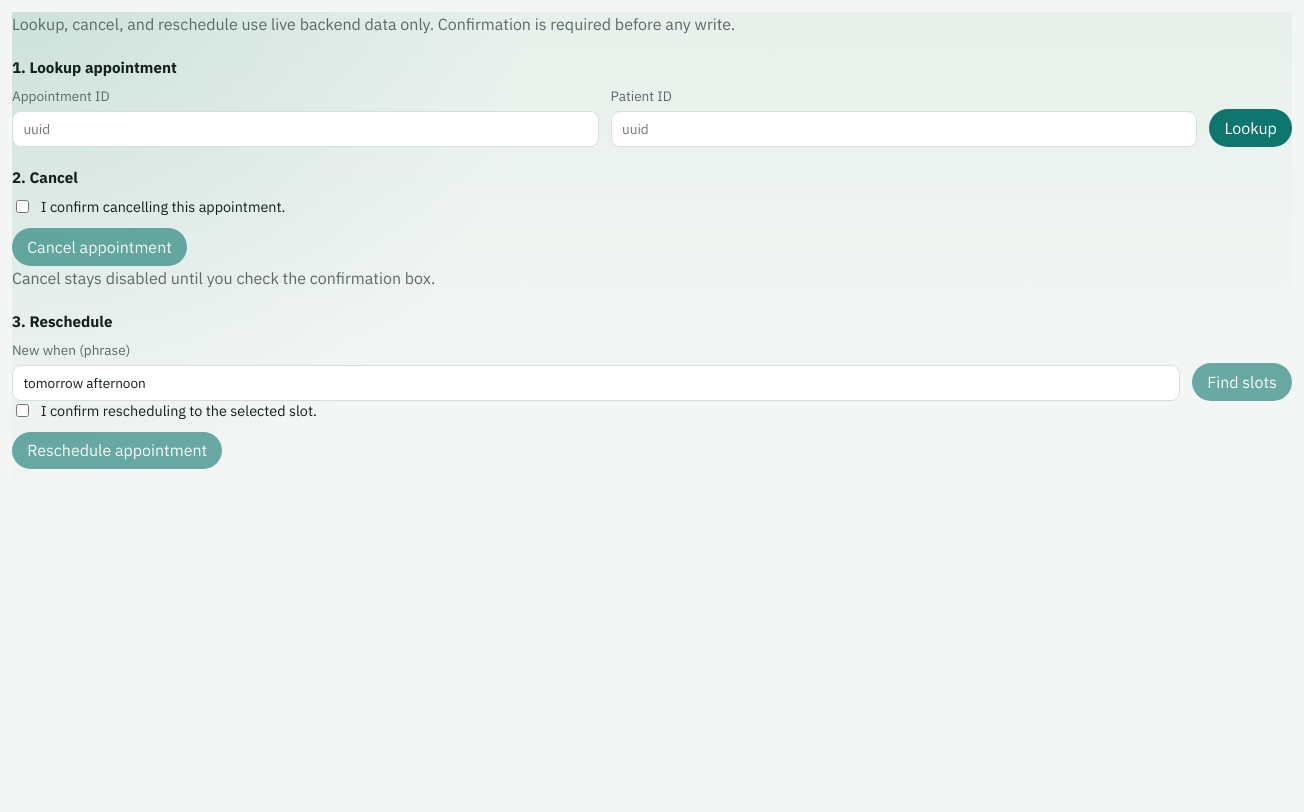
it: AppointmentManagePanel (KAN-110) › TC-002 cancel without confirm does not mutate
In the field with test id "manage-appointment-id": {"x": 305, "y": 129} [12,111,599,147], type "appt-1"
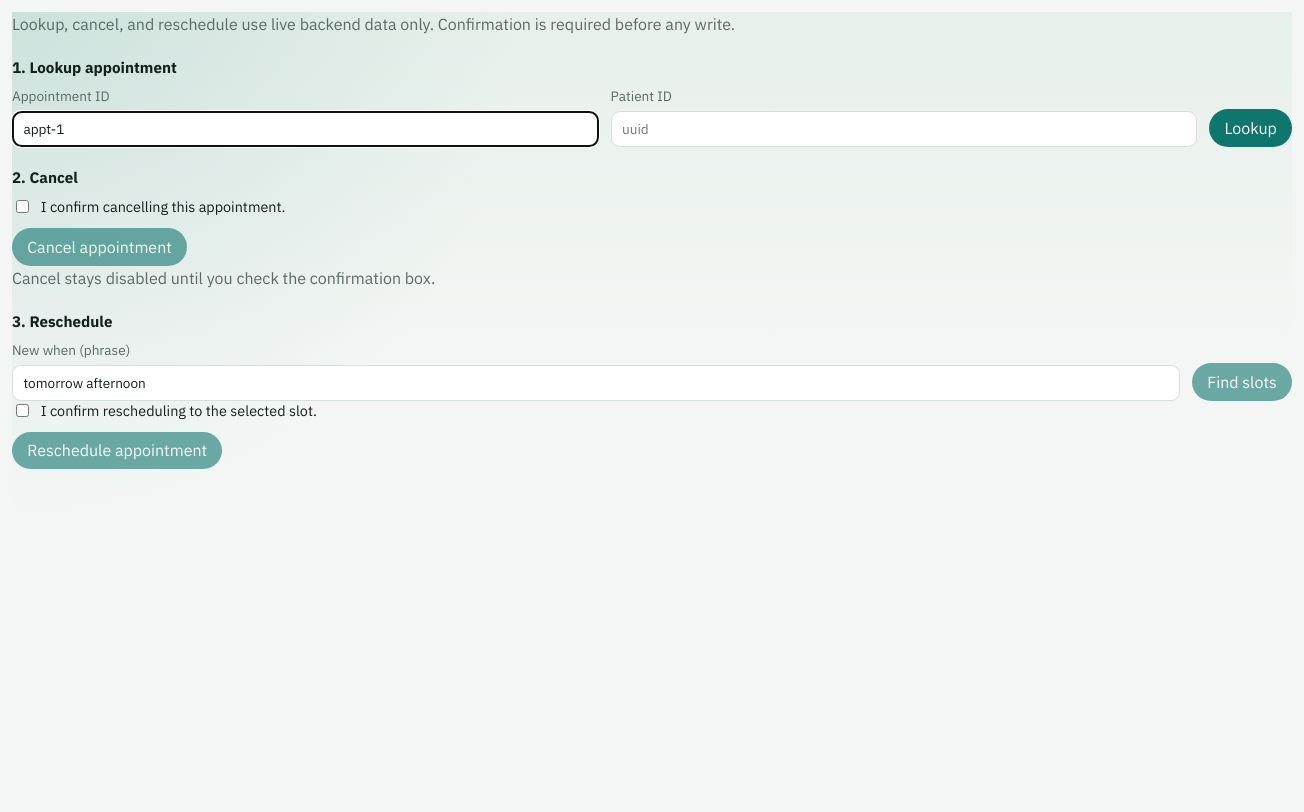
Click the button with test id "manage-lookup": {"x": 1251, "y": 128} [1209,109,1292,147]
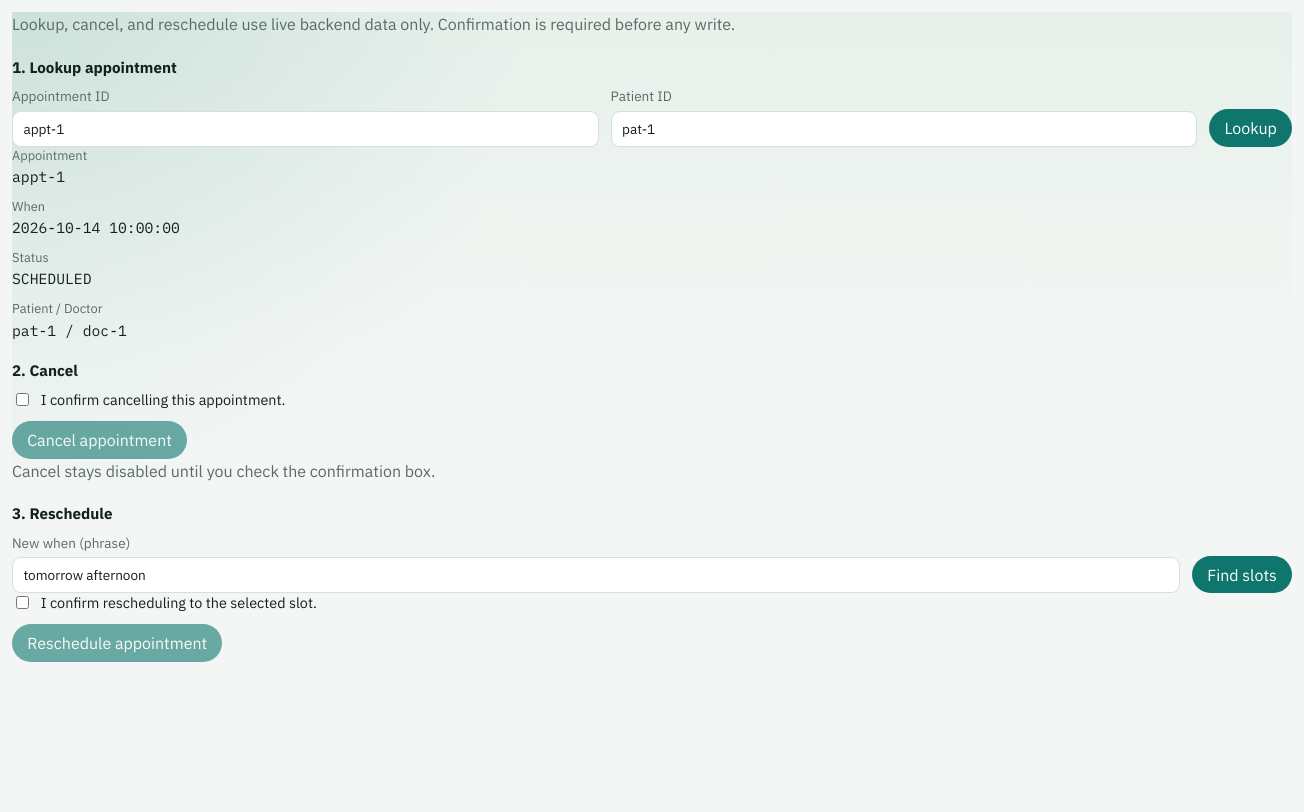
expect the button with test id "manage-cancel" is disabled: met, box [12,421,187,458]
expect the element with test id "manage-selected" is shown: met, box [12,147,180,340]
